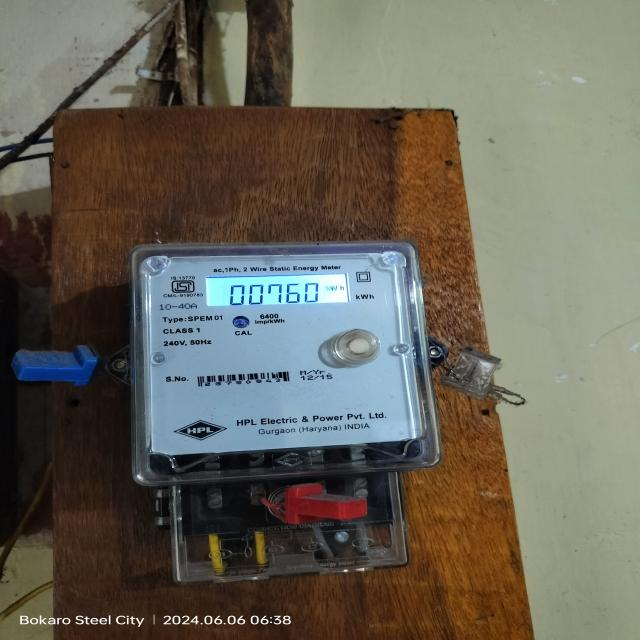display: (198, 276, 355, 311)
